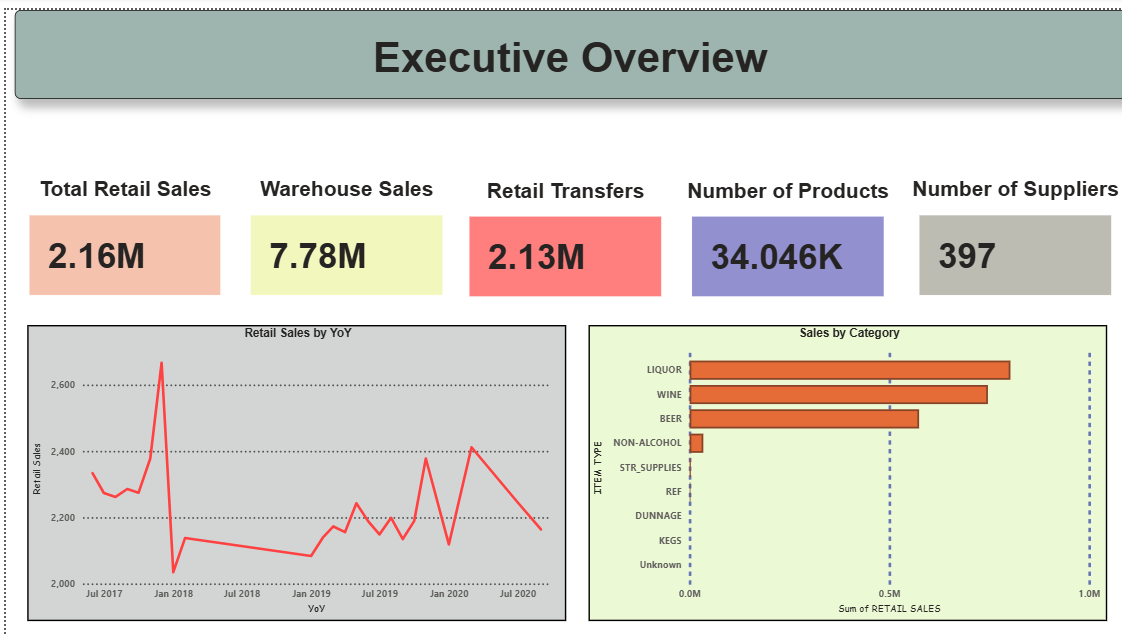

Layout of this report page (visuals, bound fields, positions):
{"tool":"powerbi","page":{"name":"Executive Overview","canvas":[1280,720],"ordinal":0},"visuals":[{"type":"textbox","title":"E","box":[10,0,1270,101.7],"z":0},{"type":"cardVisual","title":"Total Retail Sales","fields":{"Data":["Sum(cleaned_retail_sales_analysis.RETAIL SALES)"]},"box":[10,191.4,252.9,151.4],"z":1000},{"type":"cardVisual","title":"Warehouse Sales","fields":{"Data":["Sum(cleaned_retail_sales_analysis.WAREHOUSE SALES)"]},"box":[263.3,191.7,253.3,151.7],"z":2000},{"type":"cardVisual","title":"Retail Transfers","fields":{"Data":["Sum(cleaned_retail_sales_analysis.RETAIL TRANSFERS)"]},"box":[513.3,193.3,253.3,151.7],"z":3000},{"type":"cardVisual","title":"Number of Products","fields":{"Data":["Count(cleaned_retail_sales_analysis.ITEM CODE)"]},"box":[766.7,193.3,253.3,151.7],"z":4000},{"type":"cardVisual","title":"Number of Suppliers","fields":{"Data":["Count(cleaned_retail_sales_analysis.SUPPLIER)"]},"box":[1026.7,191.7,253.3,151.7],"z":5000},{"type":"lineChart","fields":{"Category":["cleaned_retail_sales_analysis.DATE"],"Y":["Count(cleaned_retail_sales_analysis.RETAIL SALES)"]},"box":[24.3,360,615.7,338.6],"z":6000},{"type":"barChart","title":"Sales by Category","fields":{"Category":["cleaned_retail_sales_analysis.ITEM TYPE"],"Y":["Sum(cleaned_retail_sales_analysis.RETAIL SALES)"]},"box":[665.7,360,592.9,338.6],"z":7000}]}

Visuals, with their boxes in screenshot pixels (x1, y1, x2, y2), scaled from the page's 1280x720 canvas onto the 1122x635 screenshot:
"E" textbox: x1=9 y1=0 x2=1121 y2=90
"Total Retail Sales" cardVisual: x1=9 y1=169 x2=230 y2=302
"Warehouse Sales" cardVisual: x1=231 y1=169 x2=453 y2=303
"Retail Transfers" cardVisual: x1=450 y1=170 x2=672 y2=304
"Number of Products" cardVisual: x1=672 y1=170 x2=894 y2=304
"Number of Suppliers" cardVisual: x1=900 y1=169 x2=1121 y2=303
lineChart - cleaned_retail_sales_analysis.DATE x Count(cleaned_retail_sales_analysis.RETAIL SALES): x1=21 y1=318 x2=561 y2=616
"Sales by Category" barChart: x1=584 y1=318 x2=1103 y2=616
